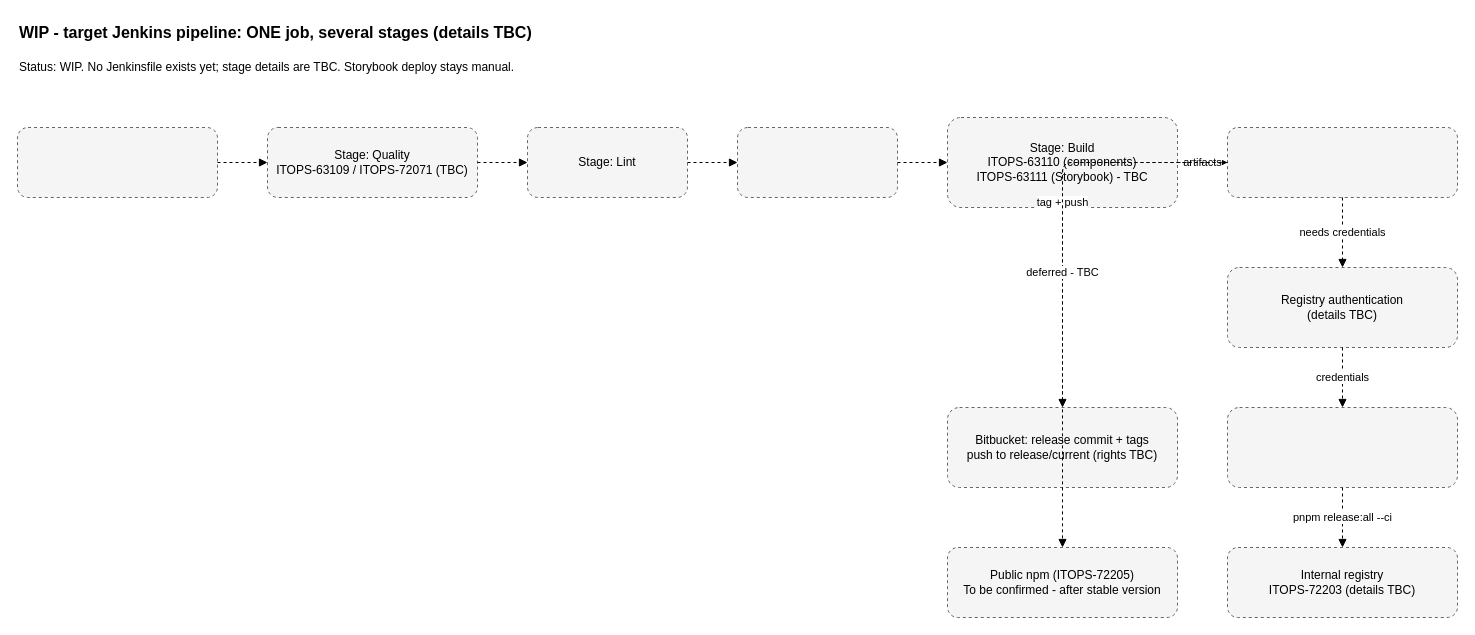
The diagram is 1475 pixels wide and 635 high, and some of its shapes have lost their labels. The shapes that lost their labels are listed below. From the top down, each one's centre as x and y in pixels, then its label:
At point 117,162: "Trigger TBC (merge, schedule or on demand)".
At point 817,162: "Stage: Tests".
At point 1342,162: "Stage: Release ITOPS-72204 publish to internal registry".
At point 1342,447: "Jenkins configures registry access at run time (details TBC)".
